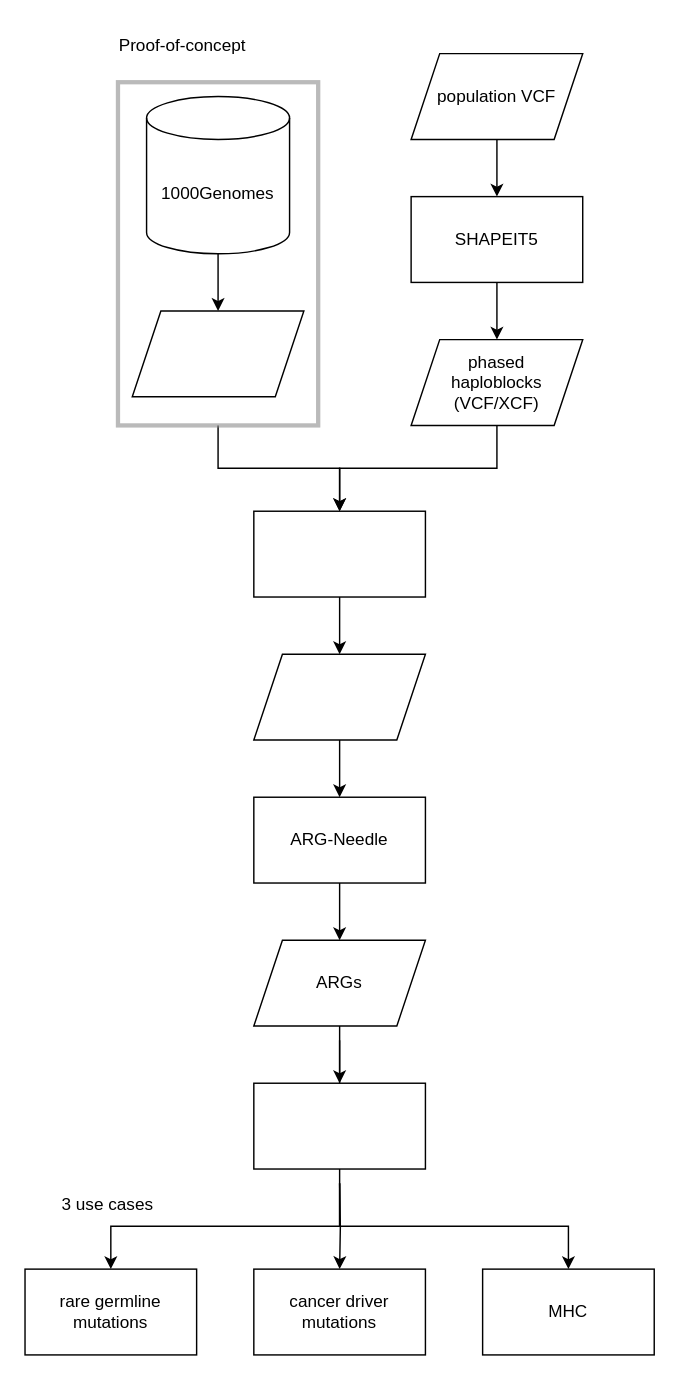
This 679x1380 diagram has some shape labels left out. Each missing label, with the box of its shape:
calculate similarity matrix between each hyploblock: (252, 1082, 425, 1169)
HAP files: (252, 653, 425, 740)
phased VCFs (SHAPEIT2): (131, 310, 304, 397)
plink2: (252, 510, 425, 597)
